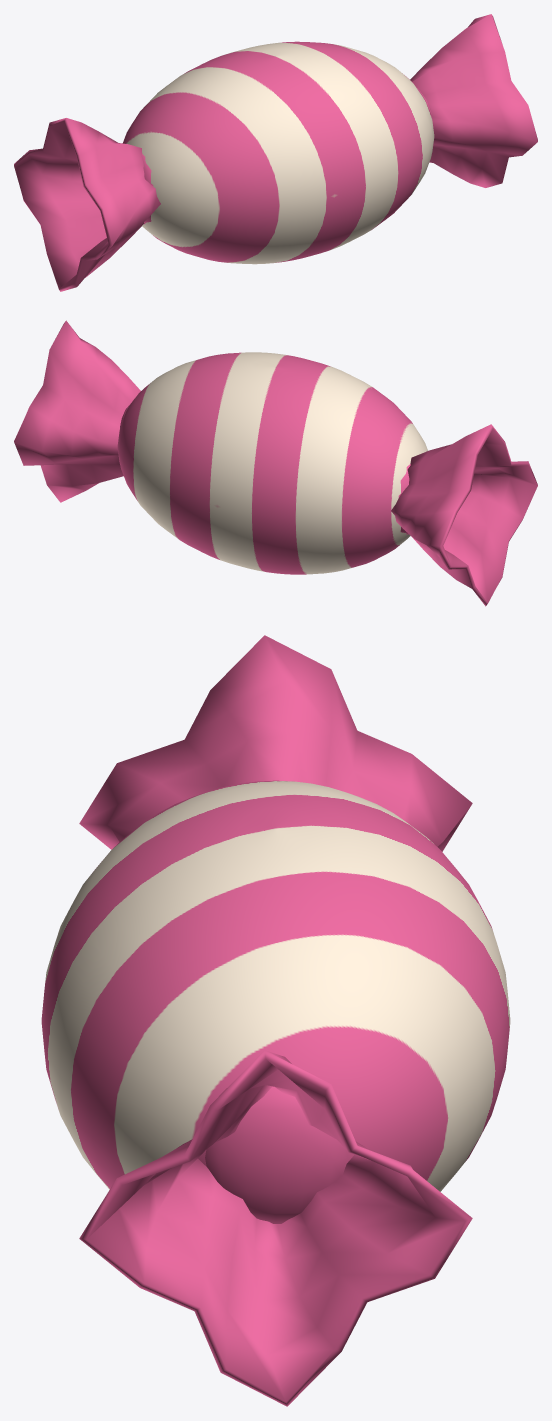
File: pink_wrap.glb
3 renders of one model, top to bottom at view 1: azimuth 30°, elevation 25°; view 2: azimuth 150°, elevation 25°; view 3: azimuth 270°, elevation 25°, orthographic. The views are drawn at different scales.
Visible parts, largest first — view 1: StripedSweet, TwistedWrapper, TwistedWrapper.001; view 2: StripedSweet, TwistedWrapper, TwistedWrapper.001; view 3: StripedSweet, TwistedWrapper.001, TwistedWrapper, WrapperKnot.001.
Boxes of the visible parts, <box> form: StripedSweet: <box>122,41,434,264</box>; TwistedWrapper: <box>14,118,160,291</box>; TwistedWrapper.001: <box>410,14,537,187</box>; StripedSweet: <box>117,352,427,574</box>; TwistedWrapper: <box>391,424,537,606</box>; TwistedWrapper.001: <box>14,320,140,502</box>; StripedSweet: <box>41,780,510,1191</box>; TwistedWrapper.001: <box>79,1050,472,1406</box>; TwistedWrapper: <box>79,635,472,851</box>; WrapperKnot.001: <box>205,1086,346,1223</box>.
Bounding box in the file's own units: 0.6764 × 0.29 × 0.32.
2 materials, 1 textured.
